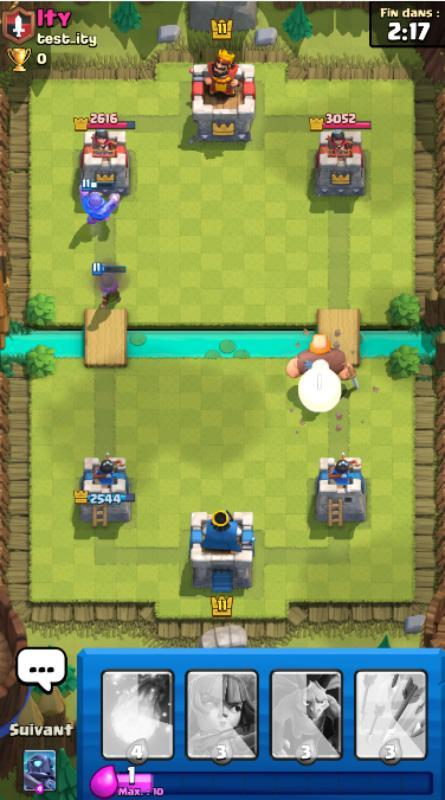chevalier: (79, 177, 123, 226)
geant: (285, 333, 353, 382)
mousquetaire: (91, 261, 127, 307)
